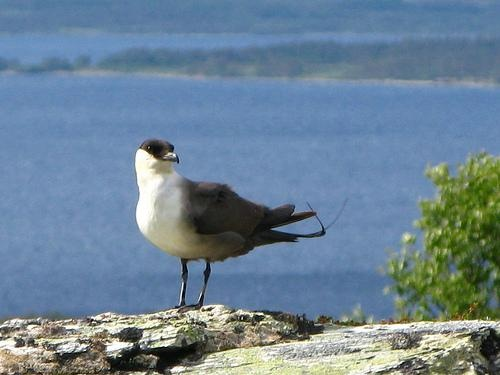bird: (131, 137, 343, 319)
